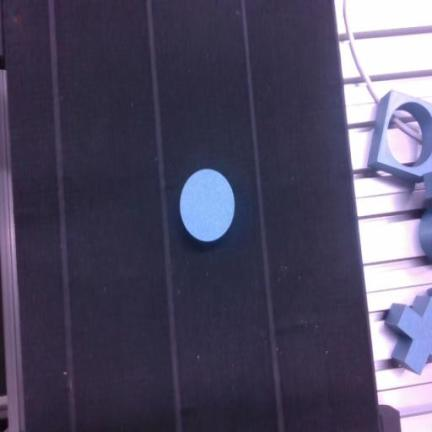cylinder: (181, 169, 235, 241)
